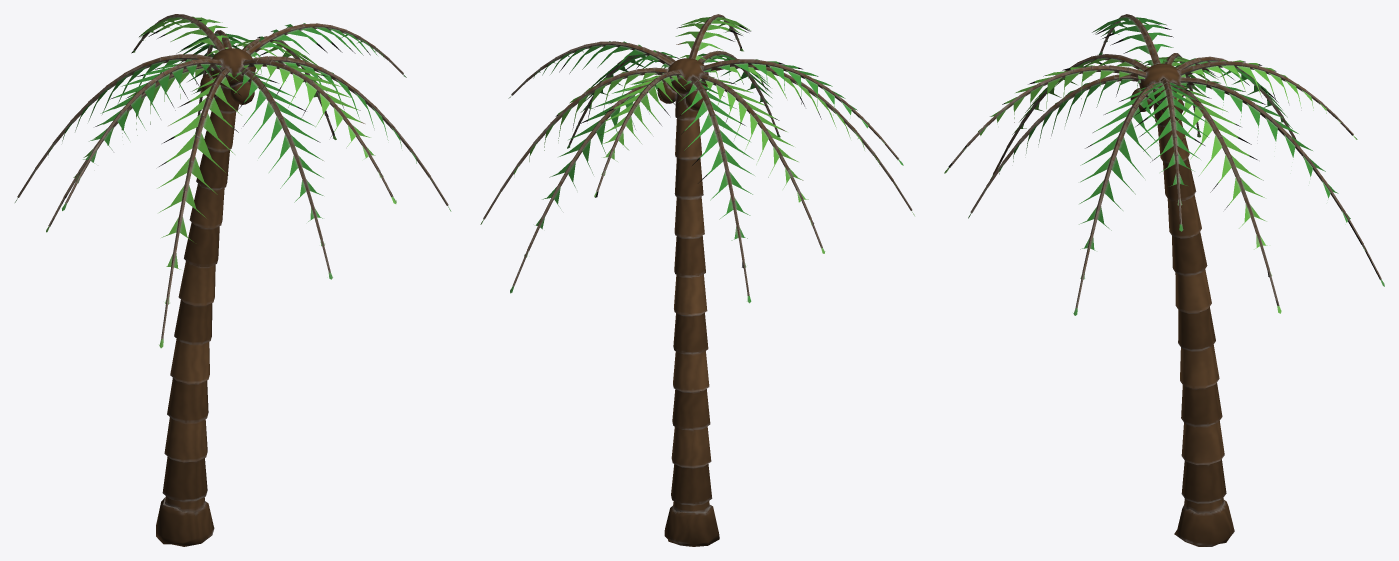
The model's file is en_palm_tree.glb.
3 views of the same model, side by side, from view 1: azimuth 30°, elevation 25°; view 2: azimuth 150°, elevation 25°; view 3: azimuth 270°, elevation 25° (orthographic). The views are drawn at different scales.
Parts seen in each view (by area): view 1: en_palm_tree; view 2: en_palm_tree; view 3: en_palm_tree.
Part boxes in pixels (x1=…): en_palm_tree: x1=15, y1=14, x2=451, y2=546; en_palm_tree: x1=480, y1=14, x2=914, y2=546; en_palm_tree: x1=944, y1=14, x2=1384, y2=546.
Size of the model in its own units: 6 by 7.47 by 6.06.
4 materials, 4 textured.
